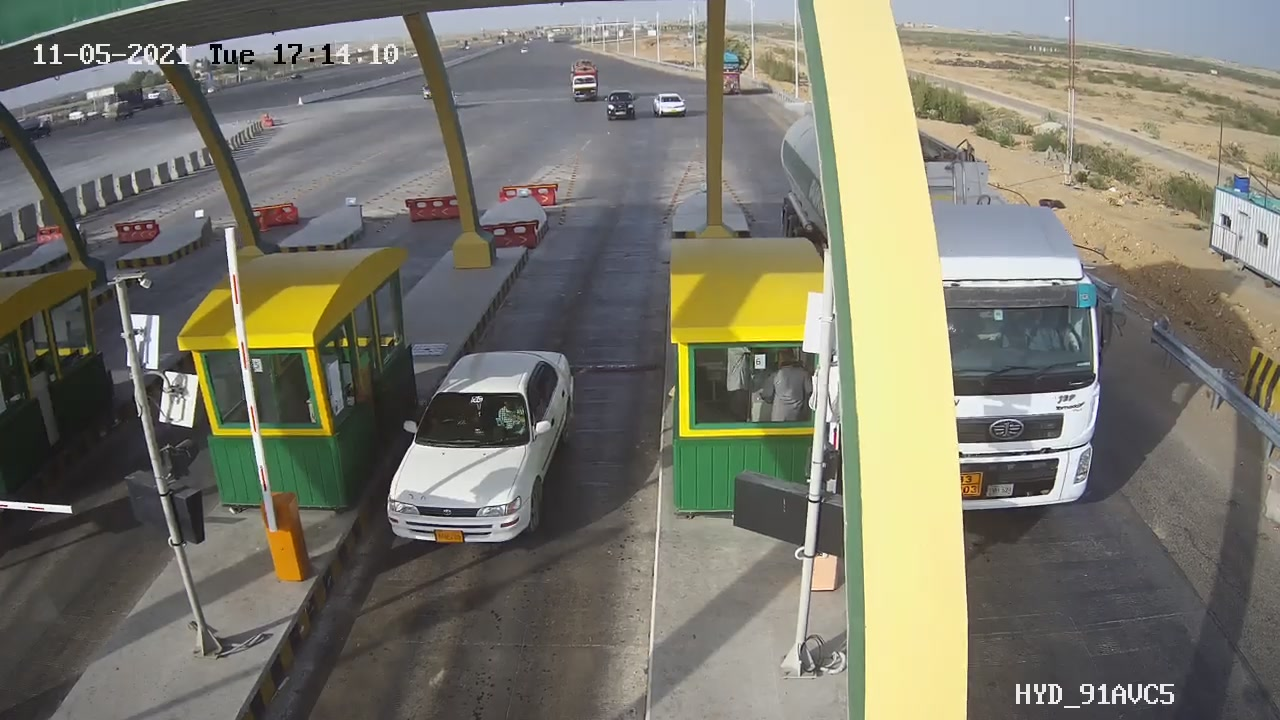F1: (361, 335, 591, 553)
